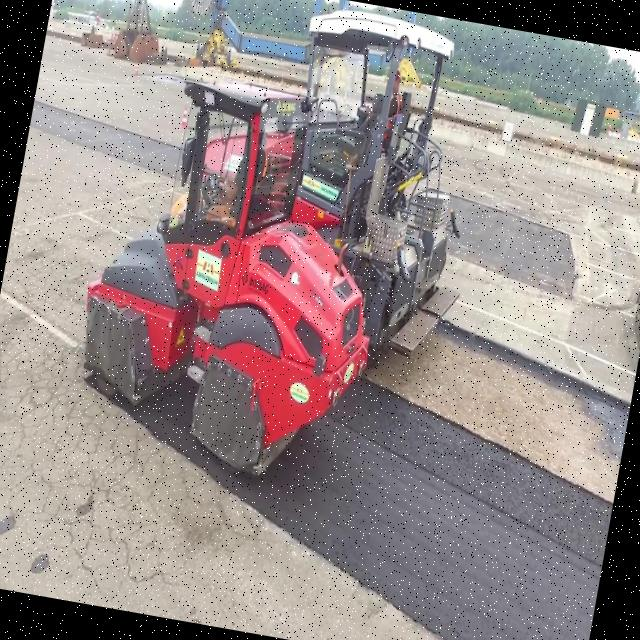Roller: (61, 68, 398, 494)
